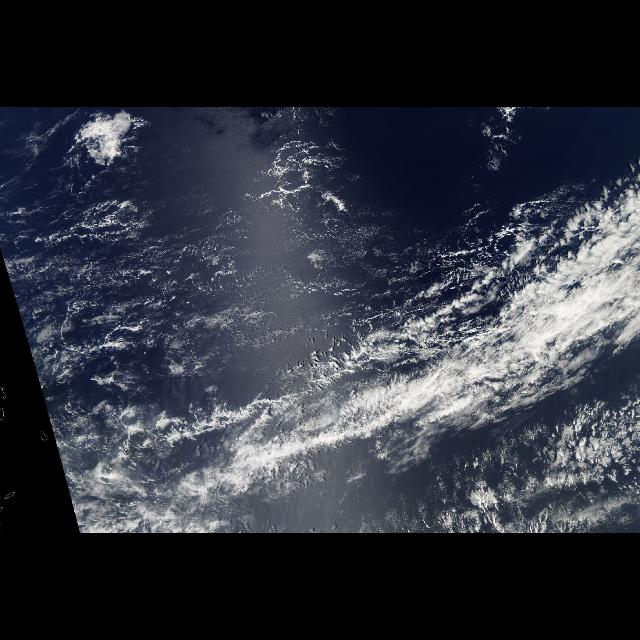Fish: (2, 160, 638, 498)
Sugar: (4, 158, 312, 392)
